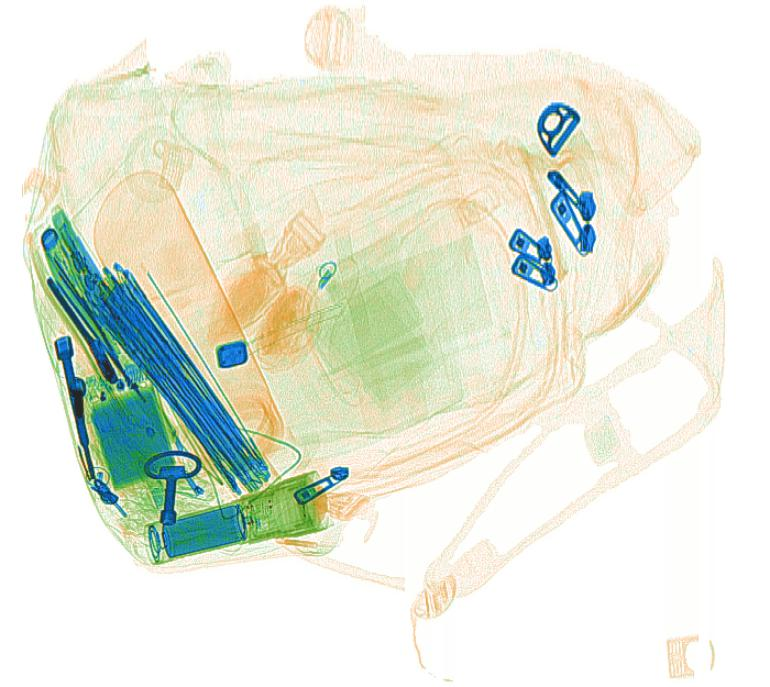battery: (159, 503, 249, 558)
scissors: (28, 221, 110, 343)
